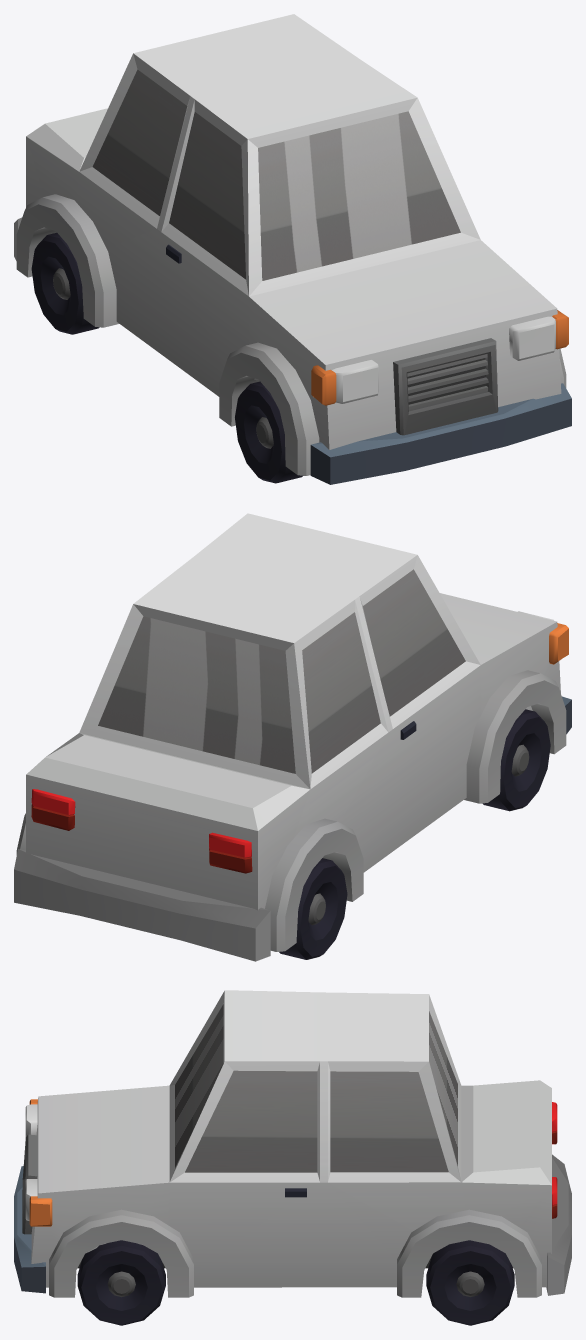
The model's file is Car_2_9.fbx.
3 renders of one model, top to bottom at view 1: azimuth 30°, elevation 25°; view 2: azimuth 150°, elevation 25°; view 3: azimuth 270°, elevation 25°, orthographic. The views are drawn at different scales.
Visible parts, largest first — view 1: Car_2_9, W_BR, W_FR; view 2: Car_2_9, W_FR, W_BR; view 3: Car_2_9, W_BL, W_FL.
Boxes of the visible parts, x1,y1,x2,y2 form: Car_2_9: (14, 14, 571, 484); W_BR: (31, 232, 99, 334); W_FR: (235, 381, 302, 483); Car_2_9: (14, 513, 571, 961); W_FR: (482, 709, 550, 811); W_BR: (279, 858, 347, 959); Car_2_9: (14, 990, 571, 1297); W_BL: (426, 1240, 514, 1325); W_FL: (77, 1240, 165, 1325).
Bounding box in the file's own units: 1.09 × 1.11 × 2.28.
